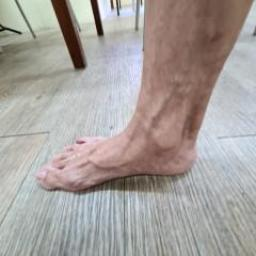Medial View -Right Foot-: (11, 72, 246, 202)
